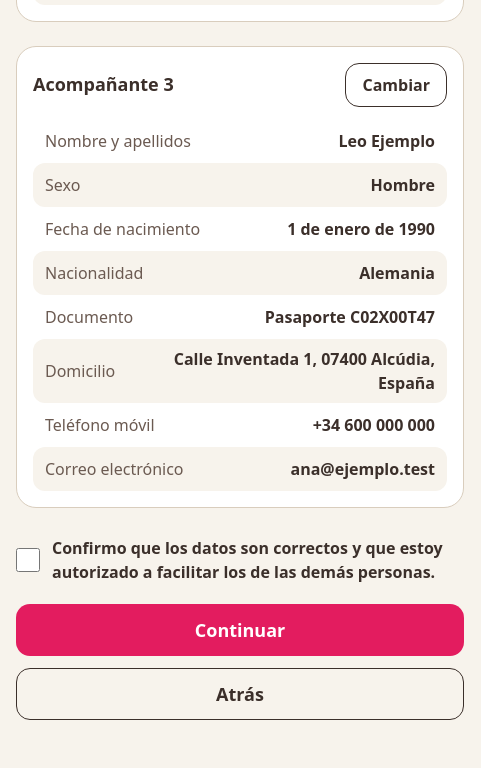
Test: App: Revisar y Final › "Atrás" en Revisar vuelve al último acompañante
This screenshot has width=481, height=768.
(page scrolled)
Click the button with class "actions__button" showing "Atrás".
click(240, 694)  # box [16,668,464,720]
(page scrolled)
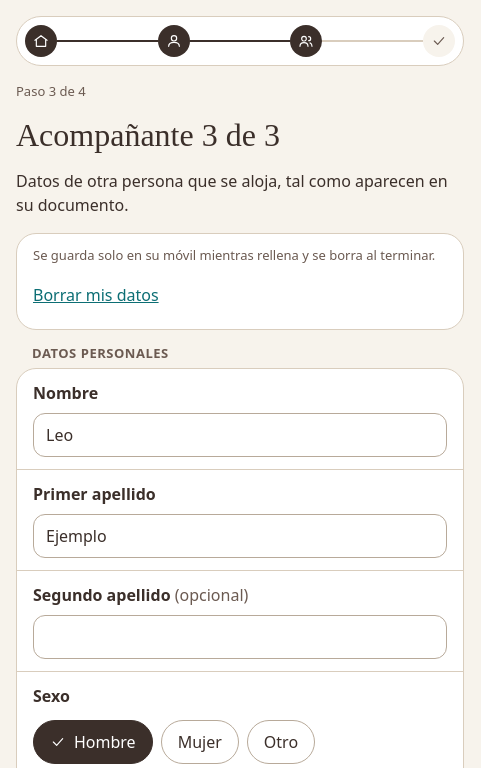
expect the heading "Acompañante 3 de 3" is shown: met, box [16,116,280,152]
